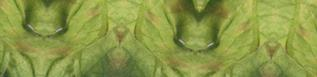Tomato mold leaf: (105, 0, 211, 77)
